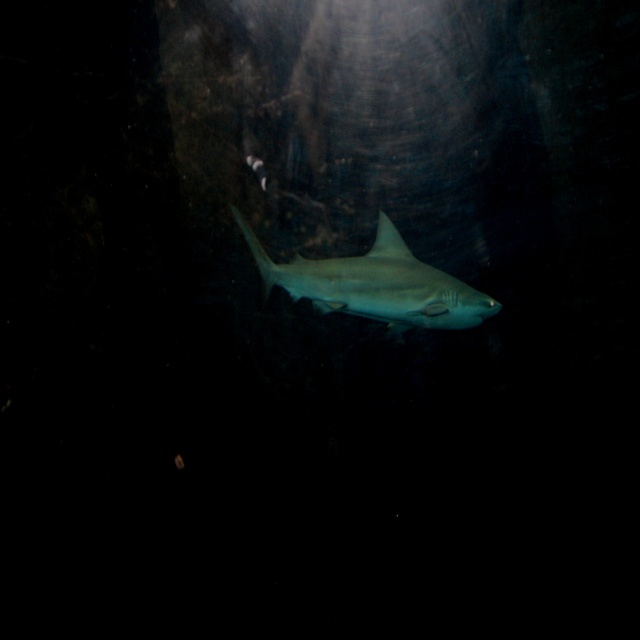Shark: (229, 190, 505, 347)
